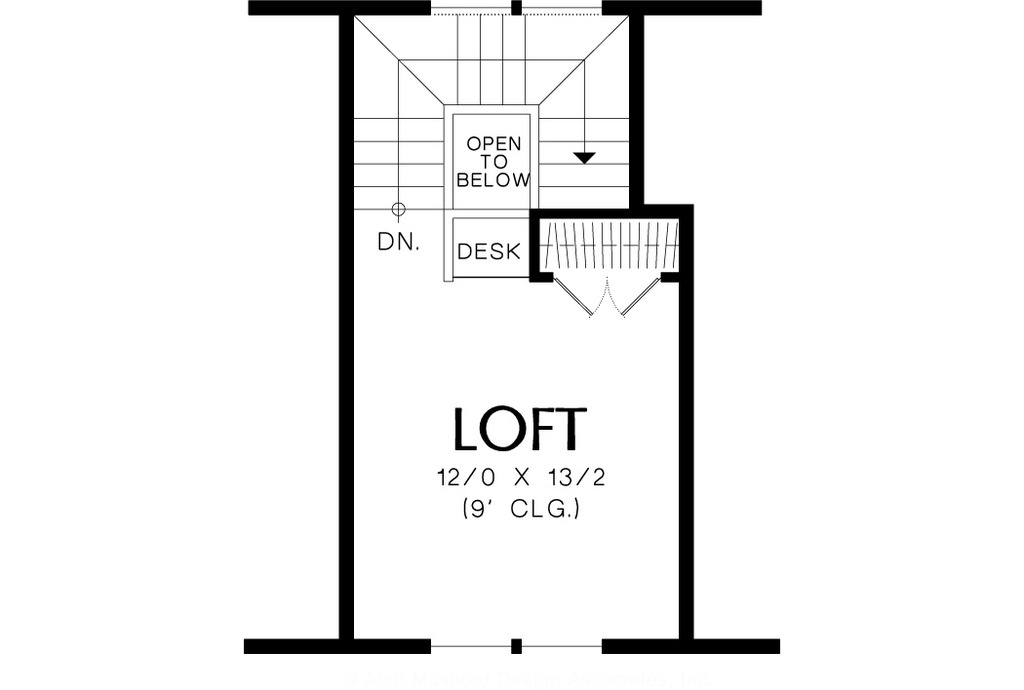door: (545, 271, 663, 326)
stairs: (349, 16, 633, 211)
window: (429, 631, 609, 659), (415, 1, 605, 12)
